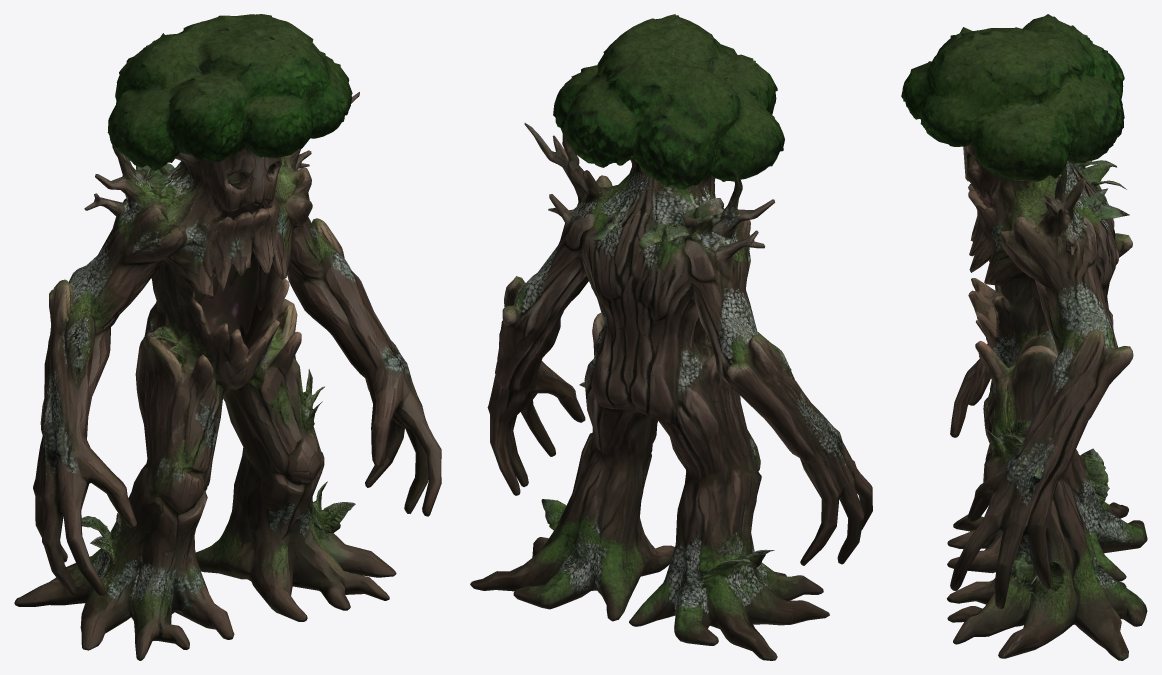
File: mesh_old_growth_a.glb
3 renders of one model, left to right at view 1: azimuth 30°, elevation 25°; view 2: azimuth 150°, elevation 25°; view 3: azimuth 270°, elevation 25°, orthographic. The views are drawn at different scales.
Parts seen in each view (by area): view 1: Mesh_0; view 2: Mesh_0; view 3: Mesh_0.
Part boxes in pixels (<box>): Mesh_0: <box>14,14,441,660</box>; Mesh_0: <box>470,14,872,660</box>; Mesh_0: <box>901,14,1147,660</box>.
Bounding box in the file's own units: 1.32 × 1.9 × 0.7514.
1 material, 1 textured.
